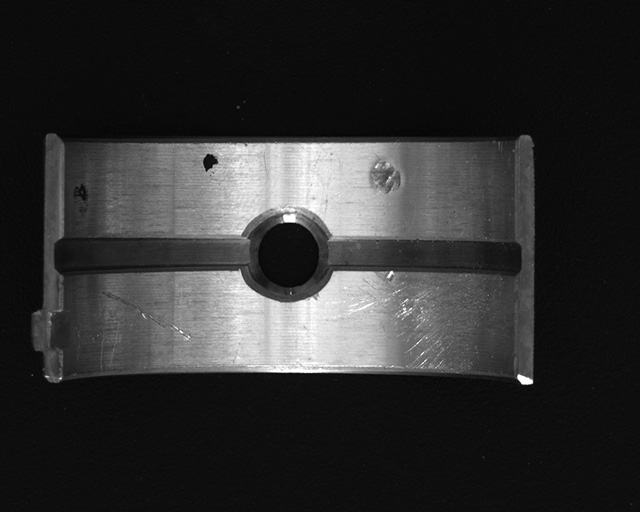blot: (72, 182, 89, 218), (203, 153, 219, 177)
bruise: (369, 152, 403, 195)
gap: (53, 231, 253, 275), (318, 236, 522, 278)
hole: (240, 207, 331, 304)
nick: (101, 290, 193, 342)
scratch: (328, 271, 504, 374)
